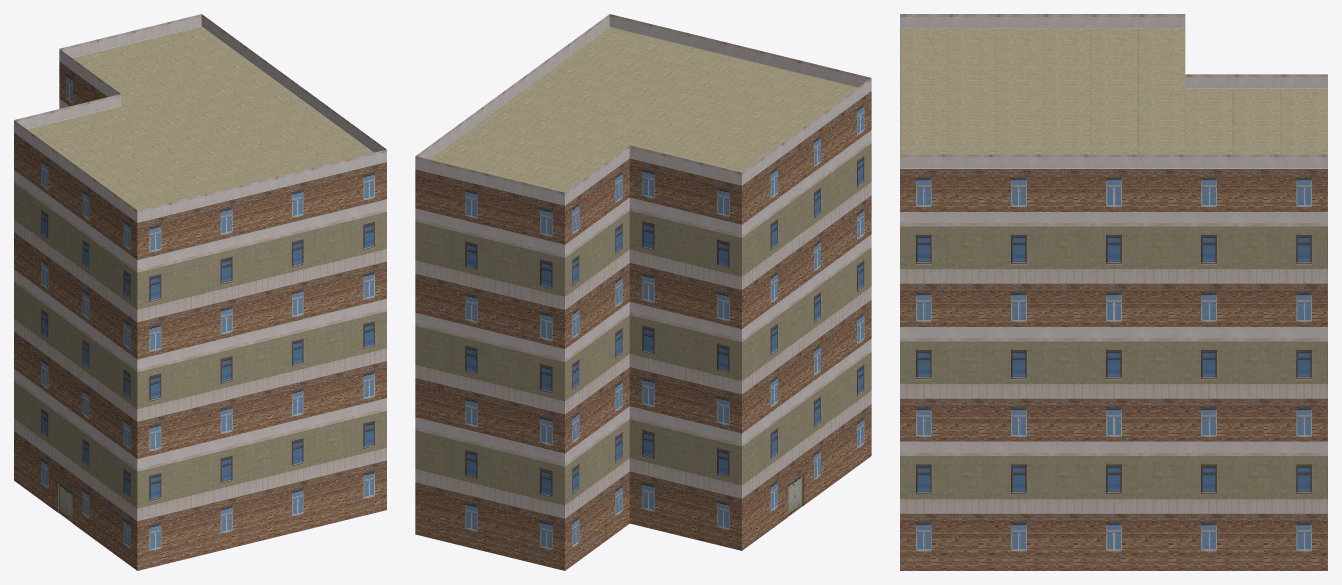
File: bld_flat_f.glb
The picture shows the model from 3 angles, left to right: view 1: azimuth 30°, elevation 25°; view 2: azimuth 150°, elevation 25°; view 3: azimuth 270°, elevation 25°; orthographic projection. The views are drawn at different scales.
Visible parts, largest first — view 1: bld_flat_f; view 2: bld_flat_f; view 3: bld_flat_f.
Boxes of the visible parts, left/top/right/bottom form: bld_flat_f: left=14, top=14, right=386, bottom=570; bld_flat_f: left=415, top=14, right=871, bottom=570; bld_flat_f: left=900, top=14, right=1327, bottom=570.
Bounding box in the file's own units: 21 × 29 × 27.
Materials: 1 (1 with a texture image).
